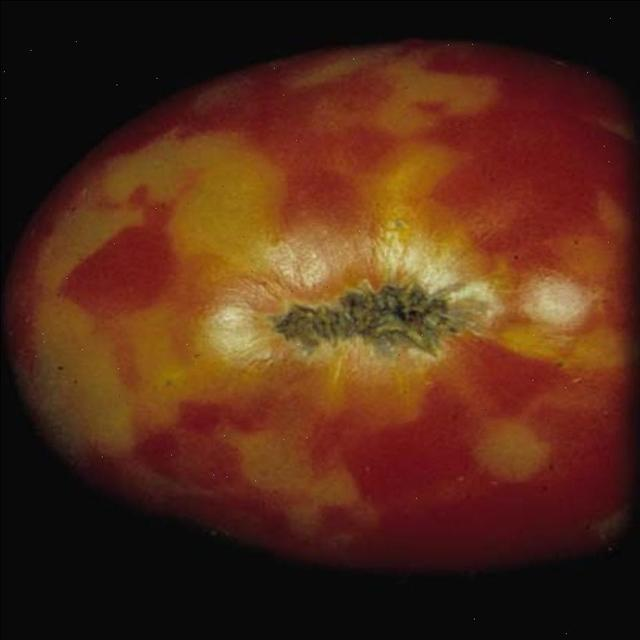Spotted wilt Virus Fruit: (4, 23, 427, 373)
